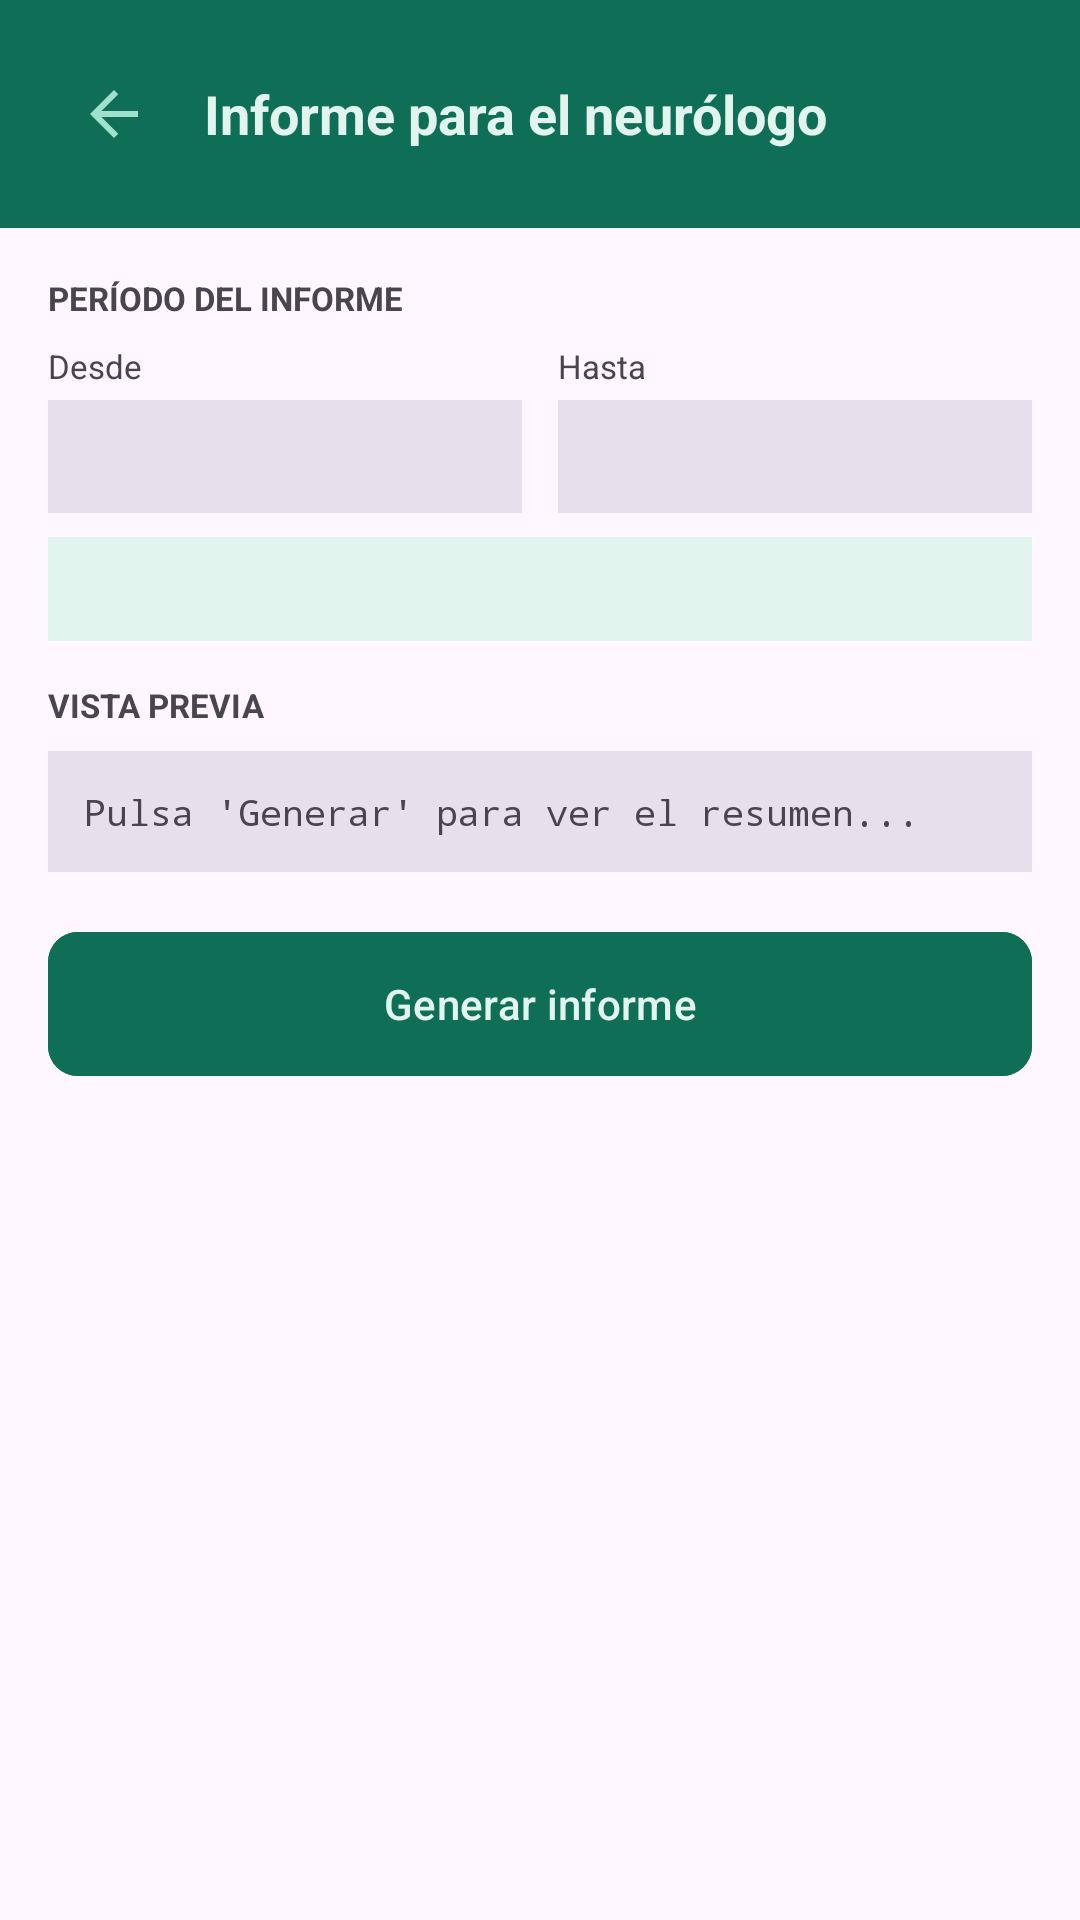

Named icons in this screenshot (1080 × 1920) and their centers, point (x, y):
back: point (114, 114)
